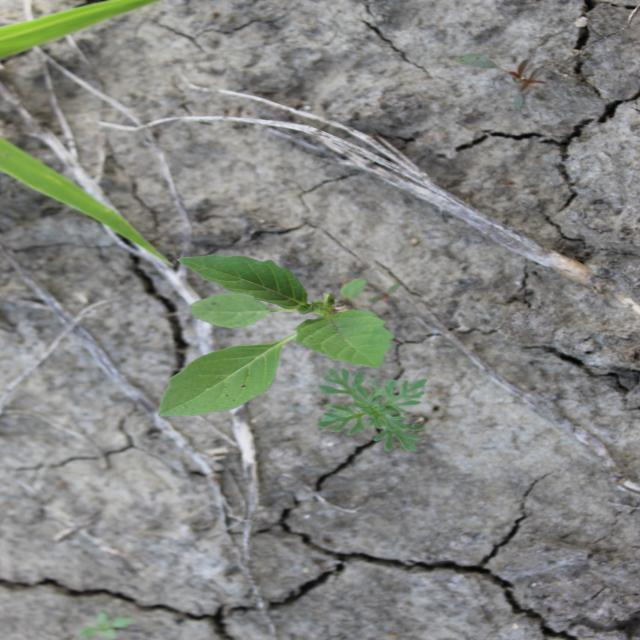CutleafGroundcherry: (156, 252, 398, 419)
Ragweed: (314, 364, 432, 454)
